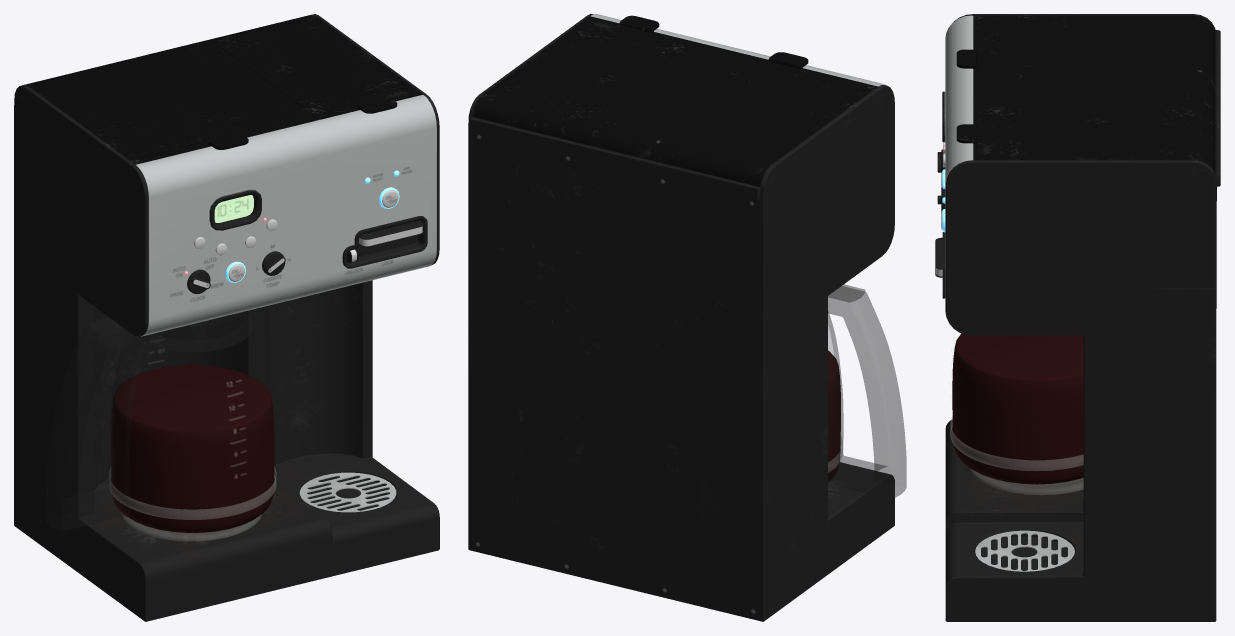
File: coffee_machine_drip.glb
3 views of the same model, side by side, from view 1: azimuth 30°, elevation 25°; view 2: azimuth 150°, elevation 25°; view 3: azimuth 270°, elevation 25° (orthographic). The views are drawn at different scales.
Visible parts, largest first — view 1: coffee_machine_drip; view 2: coffee_machine_drip; view 3: coffee_machine_drip.
Part boxes in pixels (x1=…): coffee_machine_drip: x1=14, y1=14, x2=439, y2=621; coffee_machine_drip: x1=468, y1=14, x2=906, y2=621; coffee_machine_drip: x1=935, y1=14, x2=1220, y2=621.
Size of the model in its own units: 0.2889 by 0.36 by 0.2006.
3 materials, 2 textured.
